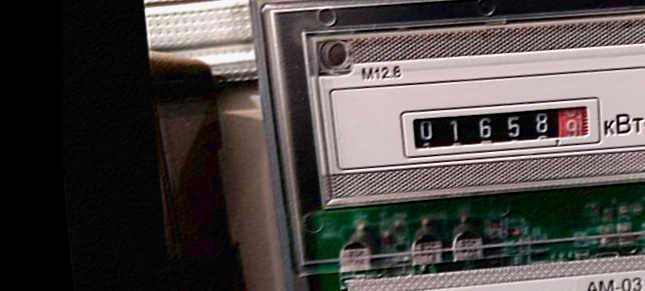0: (419, 118, 434, 141)
1: (449, 119, 461, 141)
5: (506, 114, 522, 138)
6: (477, 116, 493, 139)
8: (533, 110, 549, 134)
9: (562, 117, 578, 139)
screen: (393, 87, 610, 166)
